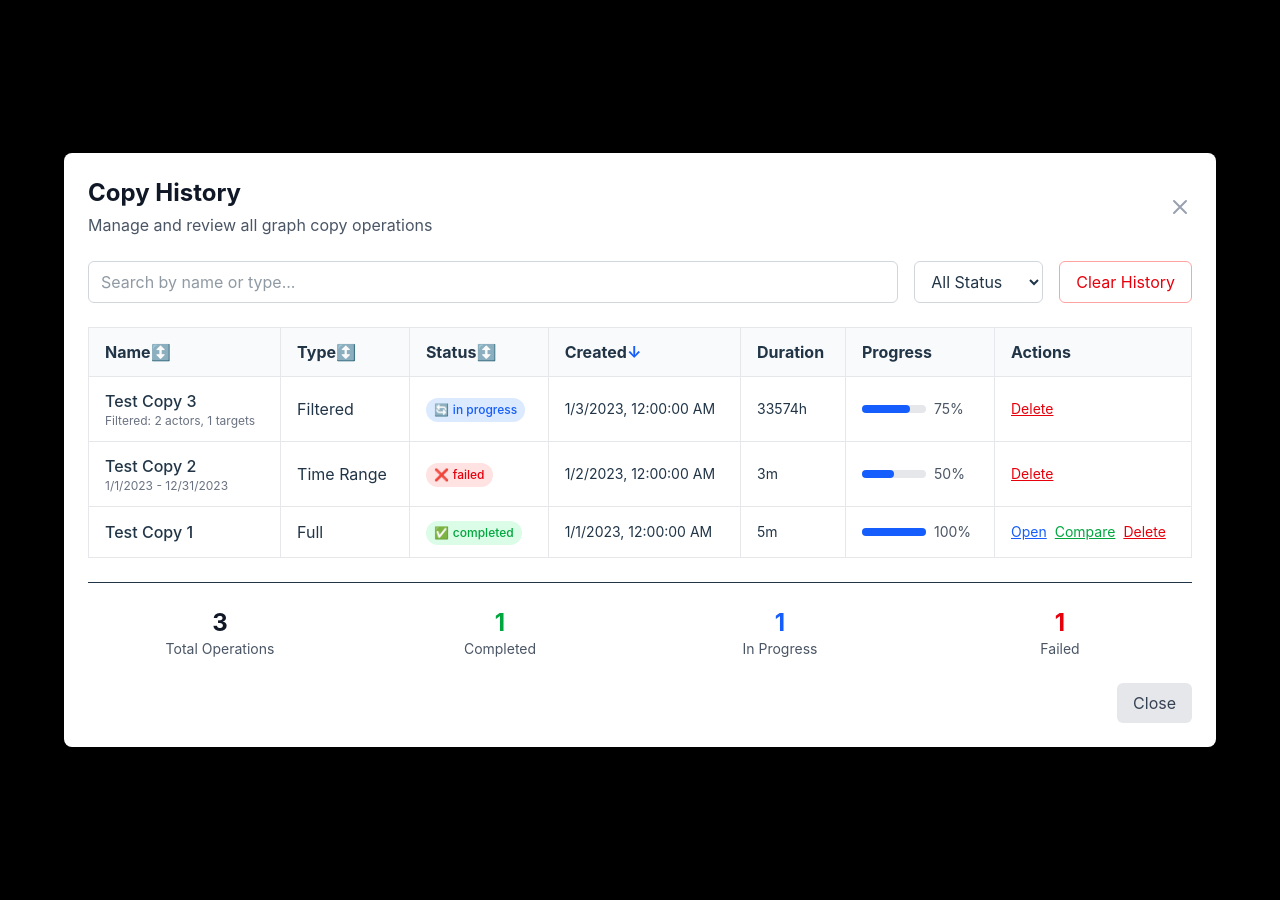
Test: CopyHistoryPanel › should filter operations by status
Filter by completed
Select "Completed" in the dropdown showing "All Status" at (979, 282), box [914,261,1043,303]
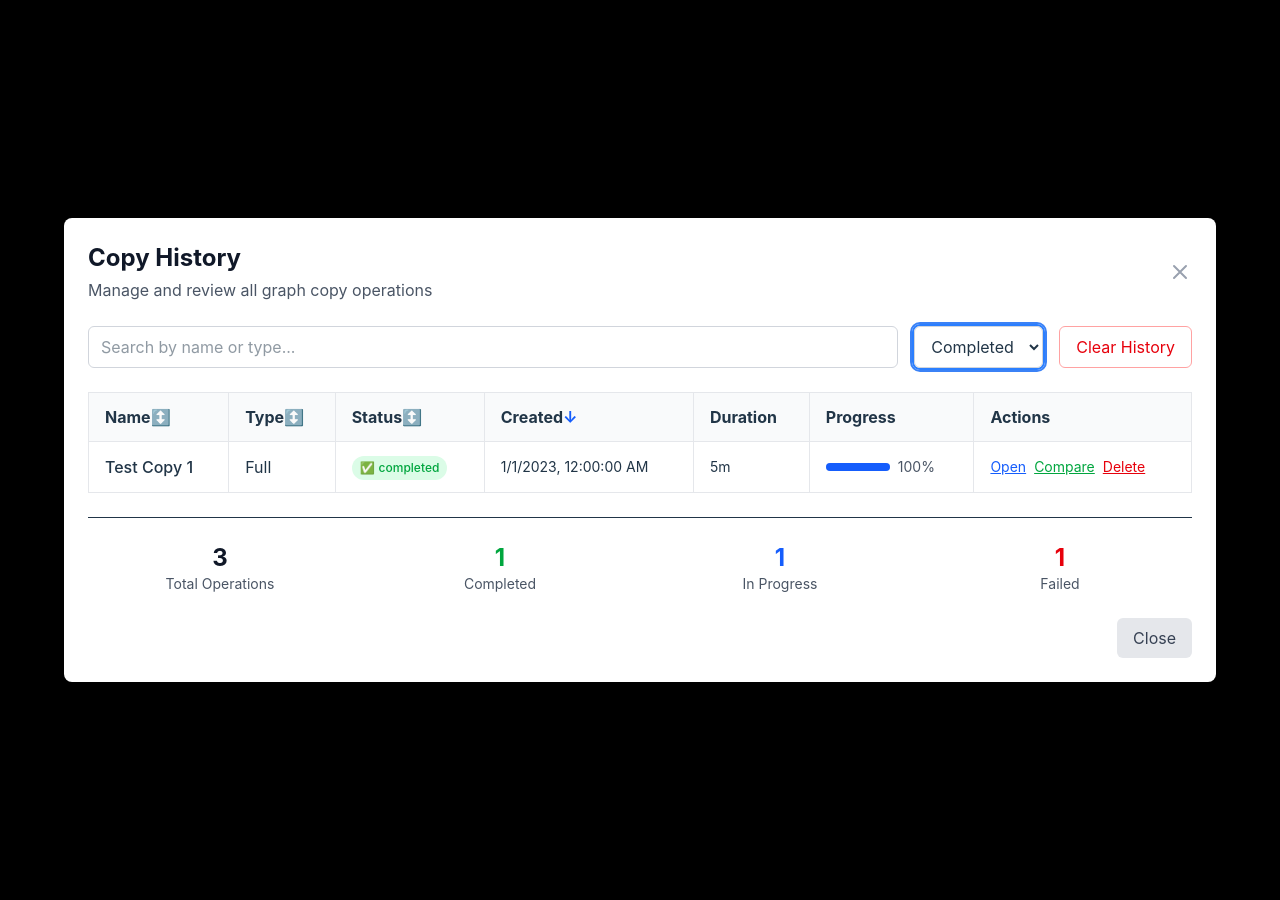
Expected: the text "Test Copy 1" is shown, [105,457,193,477]
Expected: the text "Test Copy 2" is gone
Expected: the text "Test Copy 3" is gone
